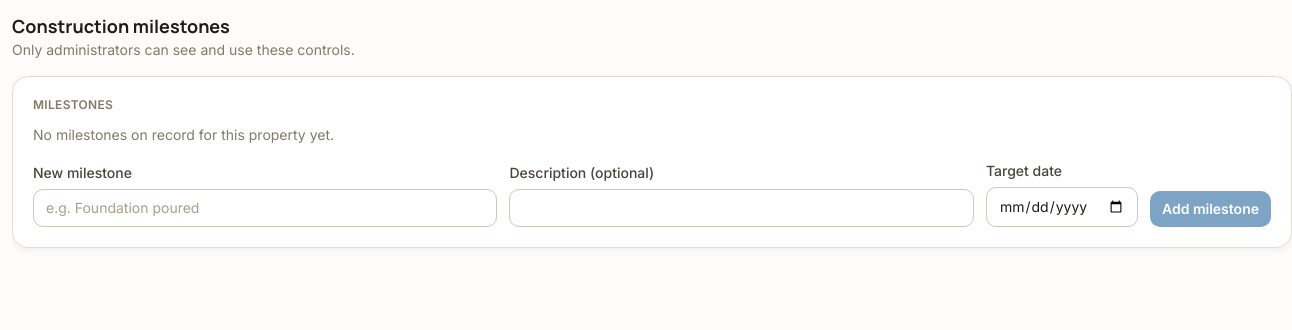
Scenario: MilestoneAdminPanel › falls back to a generic message when an action rejects with a non-Error value
Type "X" into the field labelled "New milestone" at (265, 208), box left=33, top=189, right=498, bottom=227
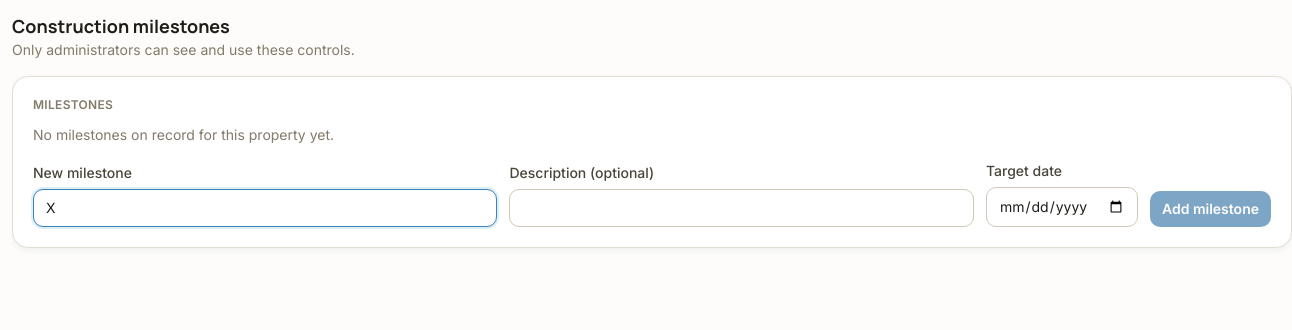
Type "2026-11-01" into the date field labelled "Target date" at (1062, 207), box left=986, top=187, right=1138, bottom=227
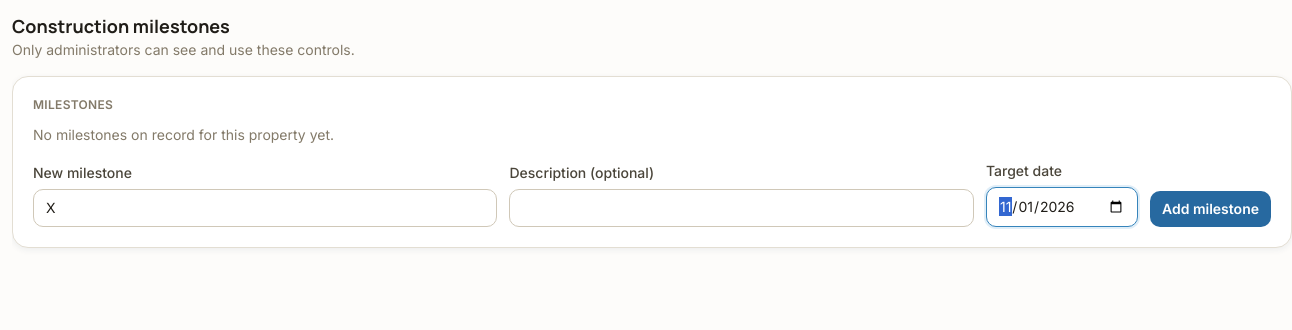
Click the button "Add milestone" at (1210, 209), box left=1150, top=191, right=1271, bottom=227
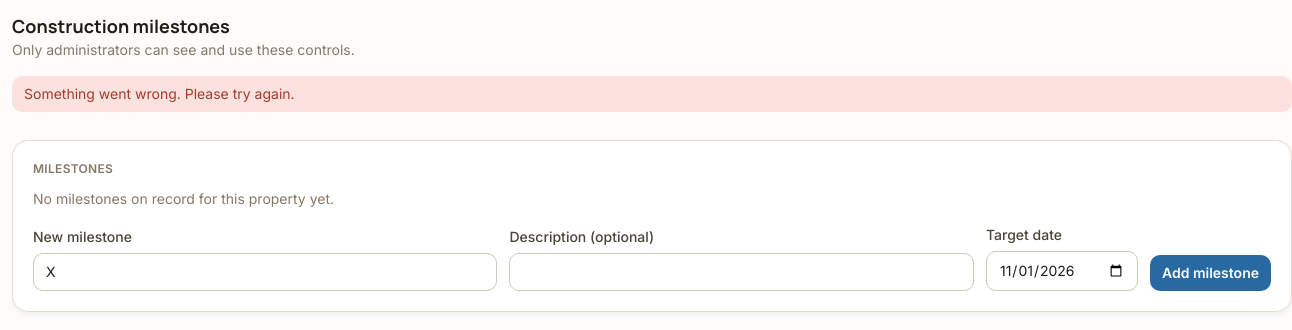
Check: the message reads "Something went wrong. Please try again.", box left=24, top=85, right=295, bottom=102
